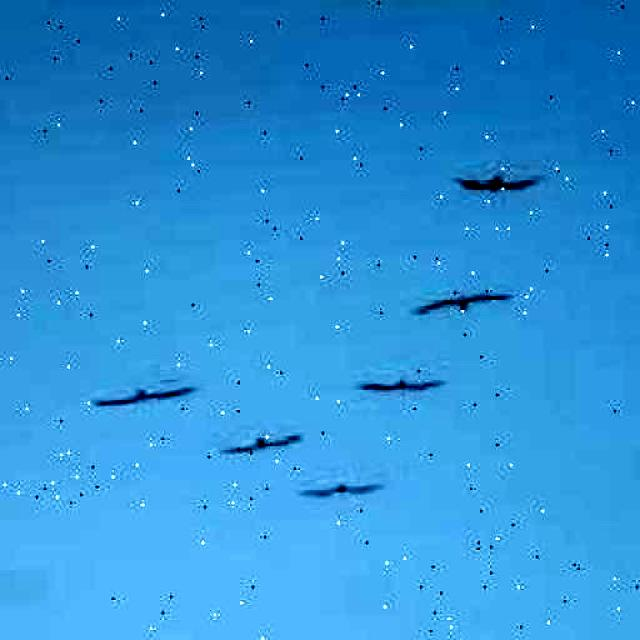airplane: (88, 379, 200, 408), (449, 168, 545, 198), (410, 290, 514, 316), (352, 372, 449, 395), (216, 432, 302, 454), (298, 478, 384, 499)
